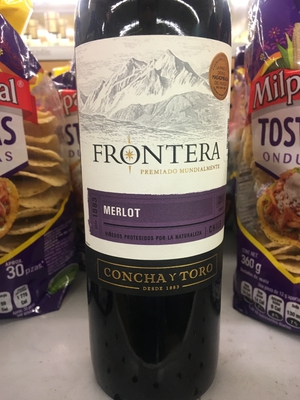frontera merlot: (58, 5, 245, 400)
